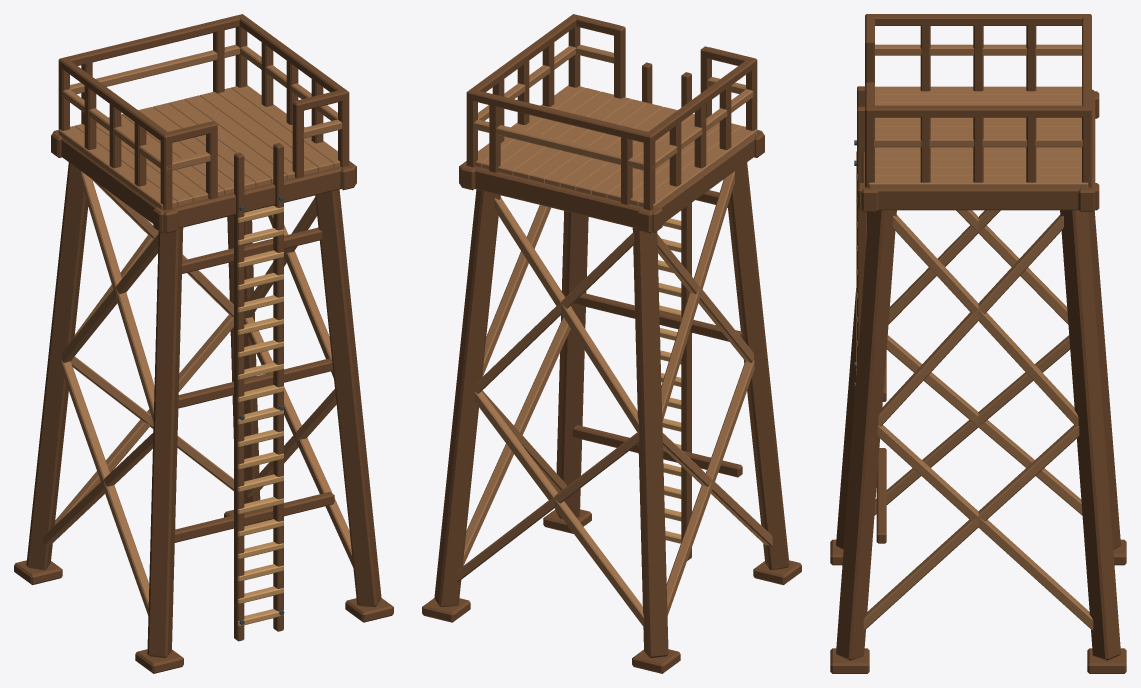
Rendered from WoodWatchTower.glb.
The picture shows the model from 3 angles, left to right: view 1: azimuth 30°, elevation 25°; view 2: azimuth 150°, elevation 25°; view 3: azimuth 270°, elevation 25°; orthographic projection. The views are drawn at different scales.
Visible parts, largest first — view 1: StaticVisual, Ladder; view 2: StaticVisual, Ladder; view 3: StaticVisual, Ladder.
Part boxes in pixels (box(x1,y1,x2,y2)): StaticVisual: box(14, 14, 393, 673); Ladder: box(234, 143, 283, 641); StaticVisual: box(422, 14, 801, 673); Ladder: box(642, 62, 691, 560); StaticVisual: box(830, 14, 1126, 673); Ladder: box(856, 86, 866, 374).
Bounding box in the file's own units: 5.88 × 12.06 × 5.88.
